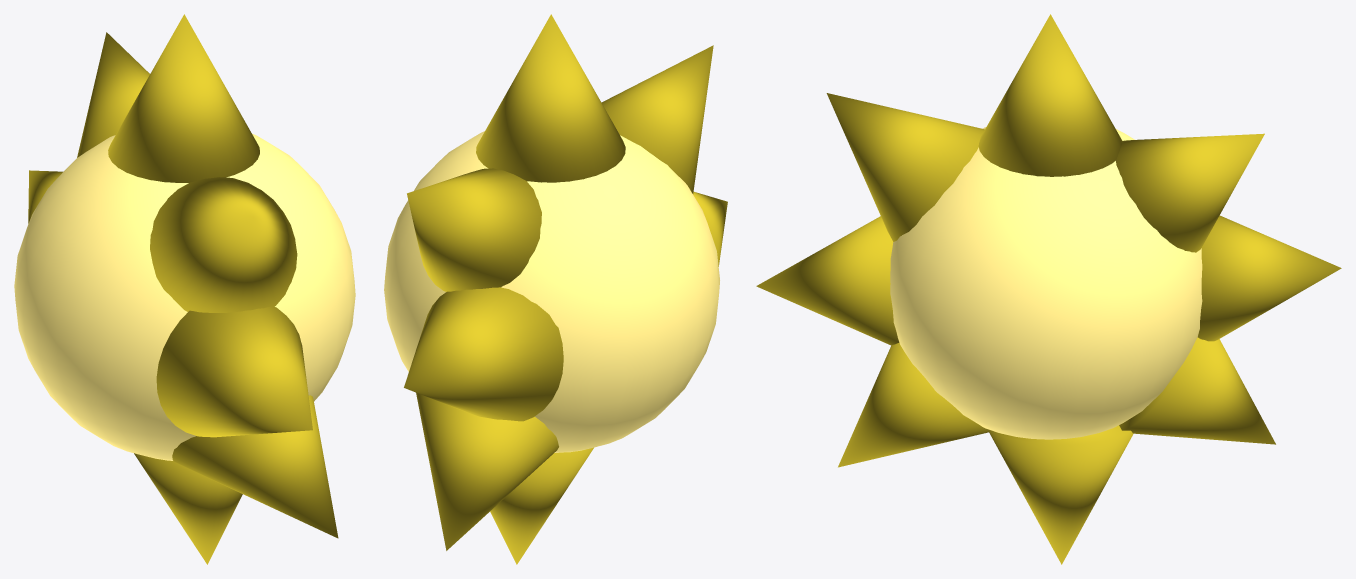
Rendered from sun.fbx.
The picture shows the model from 3 angles, left to right: view 1: azimuth 30°, elevation 25°; view 2: azimuth 150°, elevation 25°; view 3: azimuth 270°, elevation 25°; orthographic projection. The views are drawn at different scales.
Visible parts, largest first — view 1: Cone.006; view 2: Cone.006; view 3: Cone.006.
Part boxes in pixels (bbox=[...]): Cone.006: bbox=[14, 14, 355, 564]; Cone.006: bbox=[384, 14, 727, 564]; Cone.006: bbox=[756, 14, 1341, 564].
Size of the model in its own units: 510 by 925 by 914.
